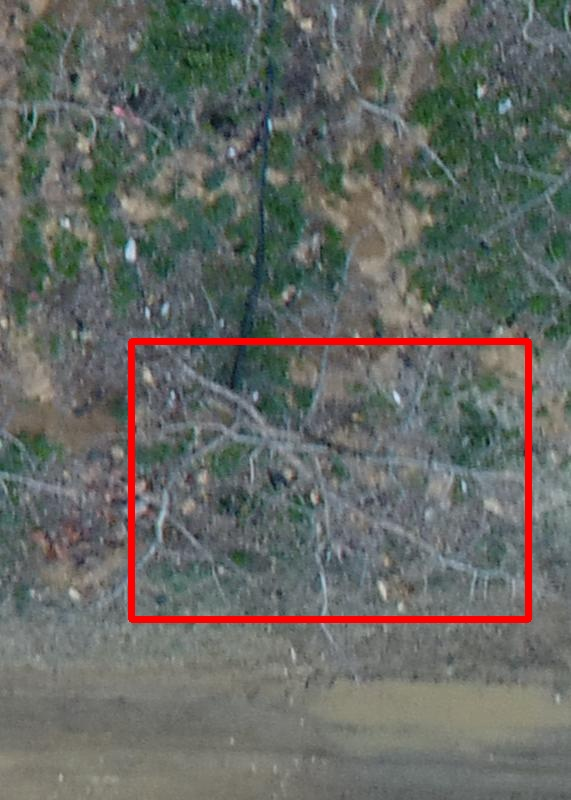apple: (131, 341, 528, 619)
